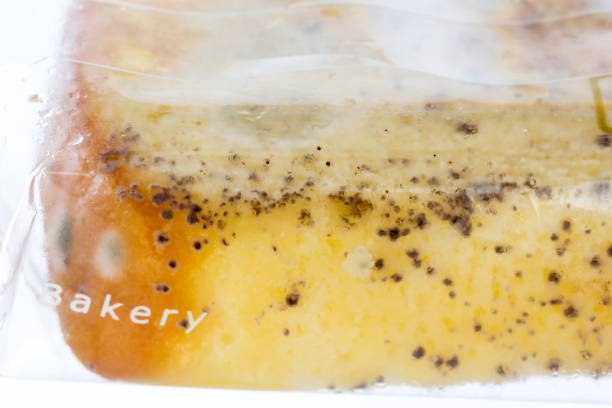mold_bread: (91, 122, 318, 236), (327, 169, 553, 236), (40, 195, 79, 273), (360, 250, 437, 286), (409, 342, 468, 376), (88, 231, 126, 277), (529, 295, 584, 323), (275, 283, 315, 314), (147, 260, 181, 294), (453, 117, 484, 138), (541, 266, 566, 290), (440, 274, 460, 303), (593, 128, 612, 155), (488, 246, 512, 259), (586, 253, 602, 272), (560, 218, 574, 235)
